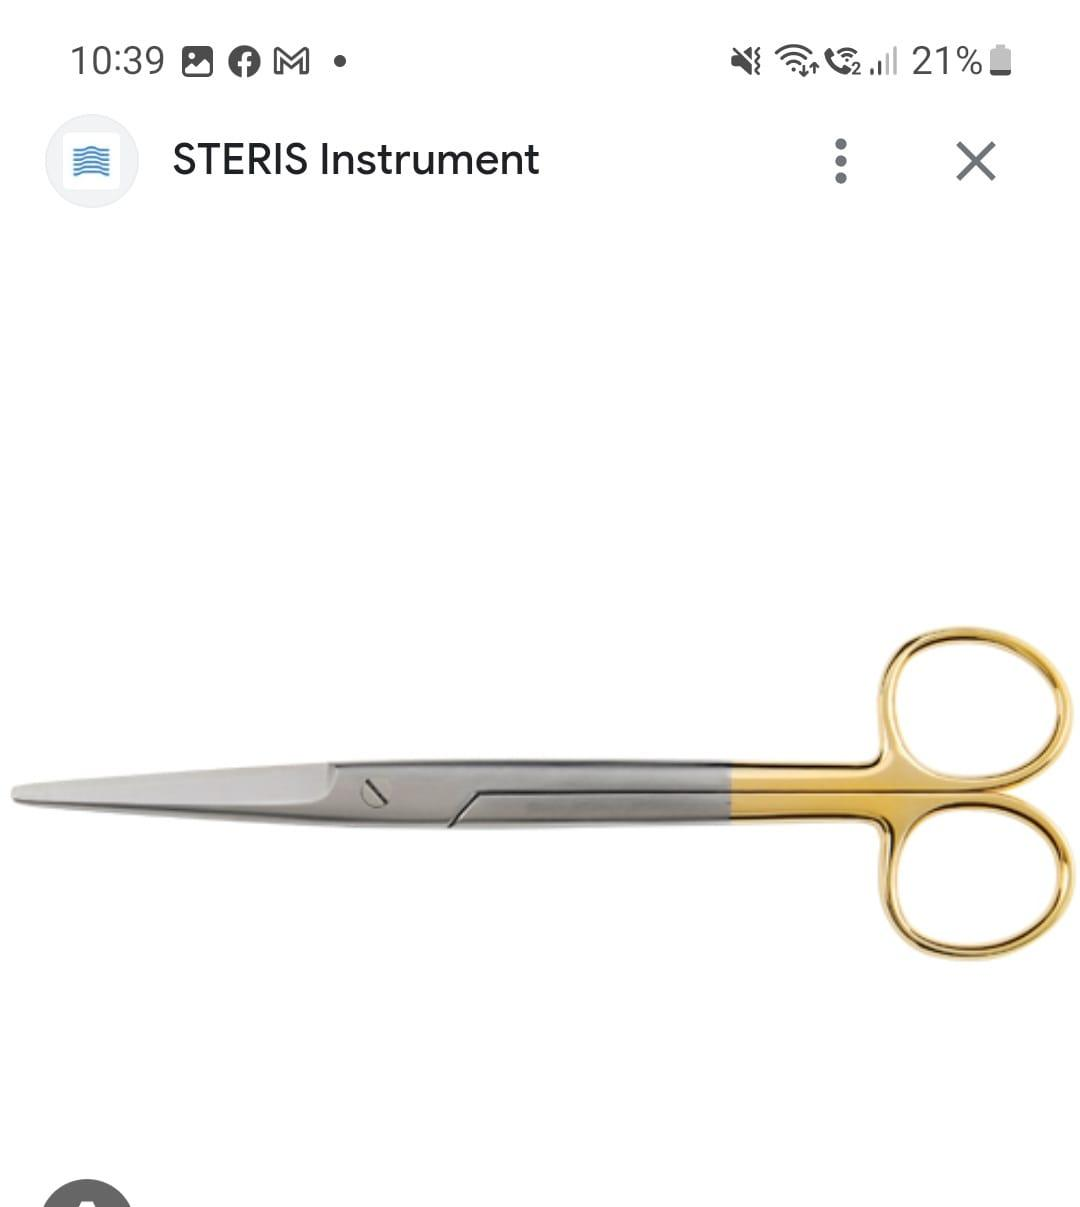Straight Mayo: (10, 607, 1077, 968)
